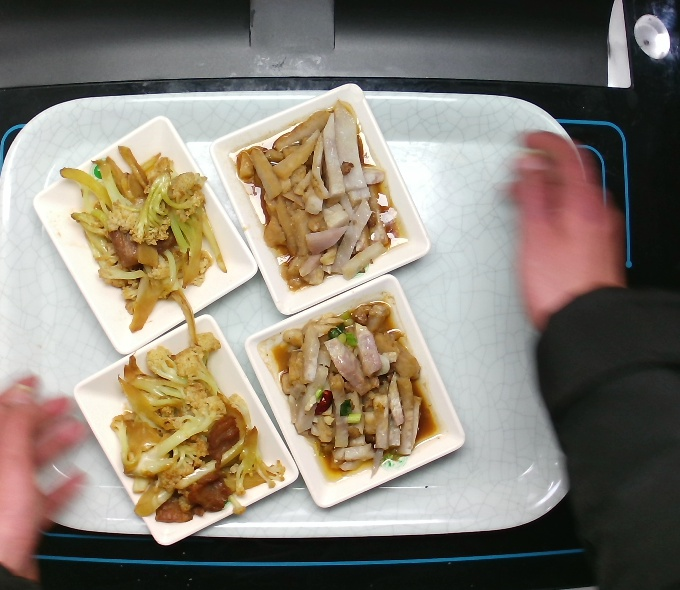wcq-QiuCaiChaoRou: (107, 329, 286, 529), (56, 142, 228, 341)
wcq-YuTou: (231, 98, 408, 290), (272, 297, 442, 478)
